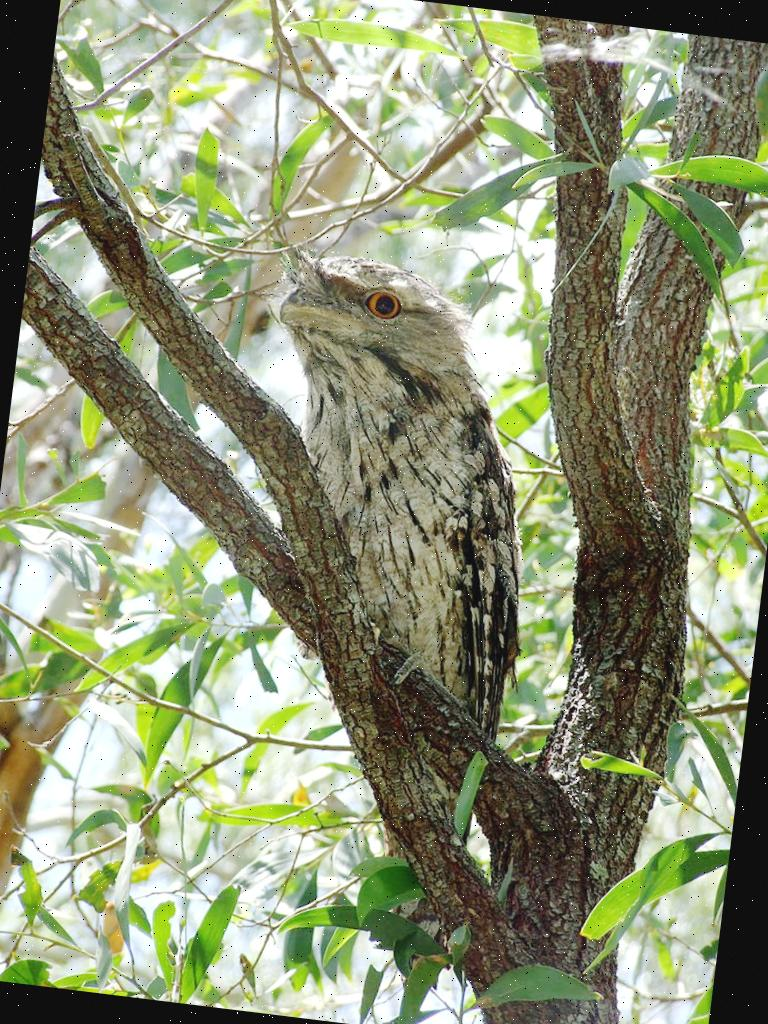Owl: (196, 216, 592, 840)
